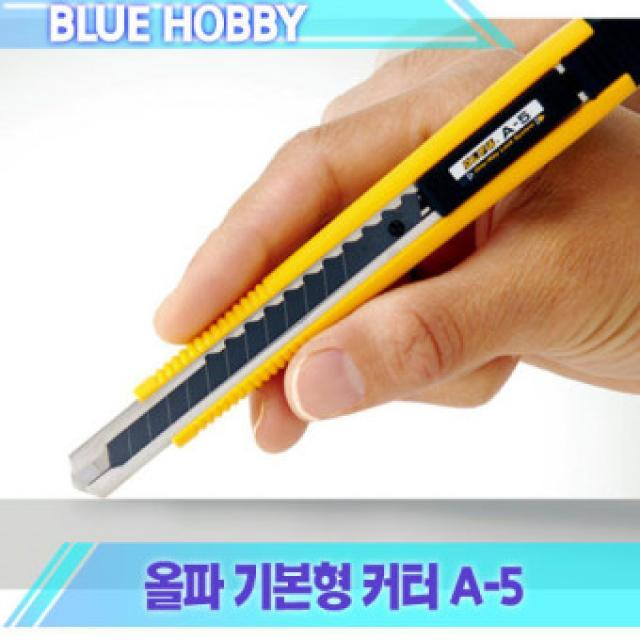cutter: (60, 0, 638, 506)
